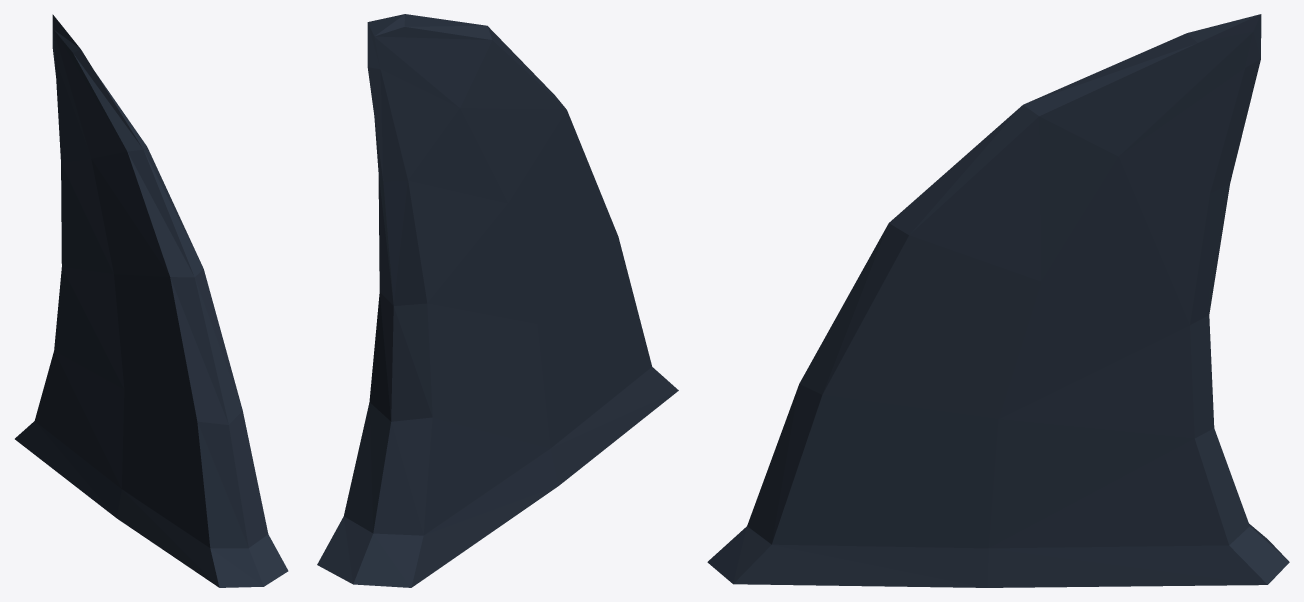
File: shark_fin_from_poly_by_google.glb
The picture shows the model from 3 angles, left to right: view 1: azimuth 30°, elevation 25°; view 2: azimuth 150°, elevation 25°; view 3: azimuth 270°, elevation 25°; orthographic projection. The views are drawn at different scales.
Visible parts, largest first — view 1: Object_4; view 2: Object_4; view 3: Object_4.
Part boxes in pixels (<box>): Object_4: <box>15,14,288,587</box>; Object_4: <box>317,14,678,587</box>; Object_4: <box>707,14,1289,587</box>.
Bounding box in the file's own units: 0.3024 × 1.5 × 1.44.
